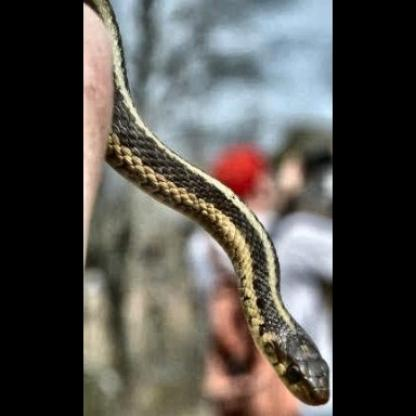Snake: (83, 19, 335, 416)
